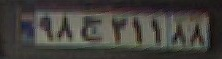character: (77, 12, 107, 43), (54, 10, 77, 43), (108, 12, 130, 45), (129, 12, 150, 46), (148, 13, 168, 45), (188, 19, 208, 48), (168, 19, 188, 47), (38, 13, 55, 41)
